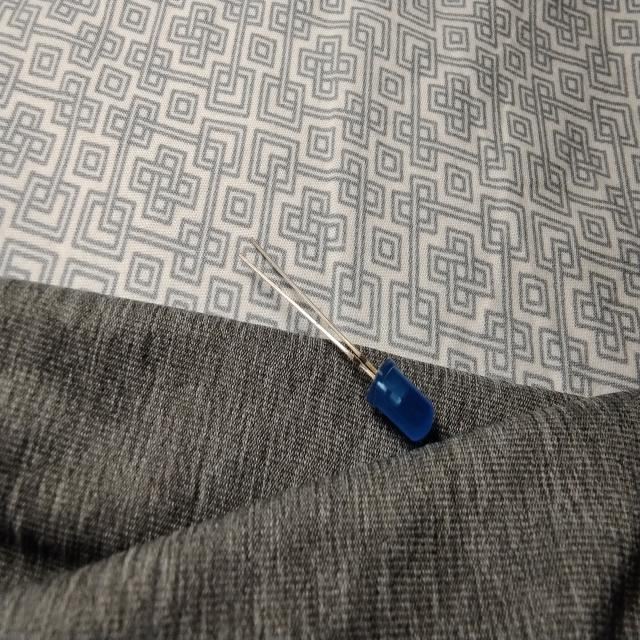blue_led: (365, 357, 435, 443)
